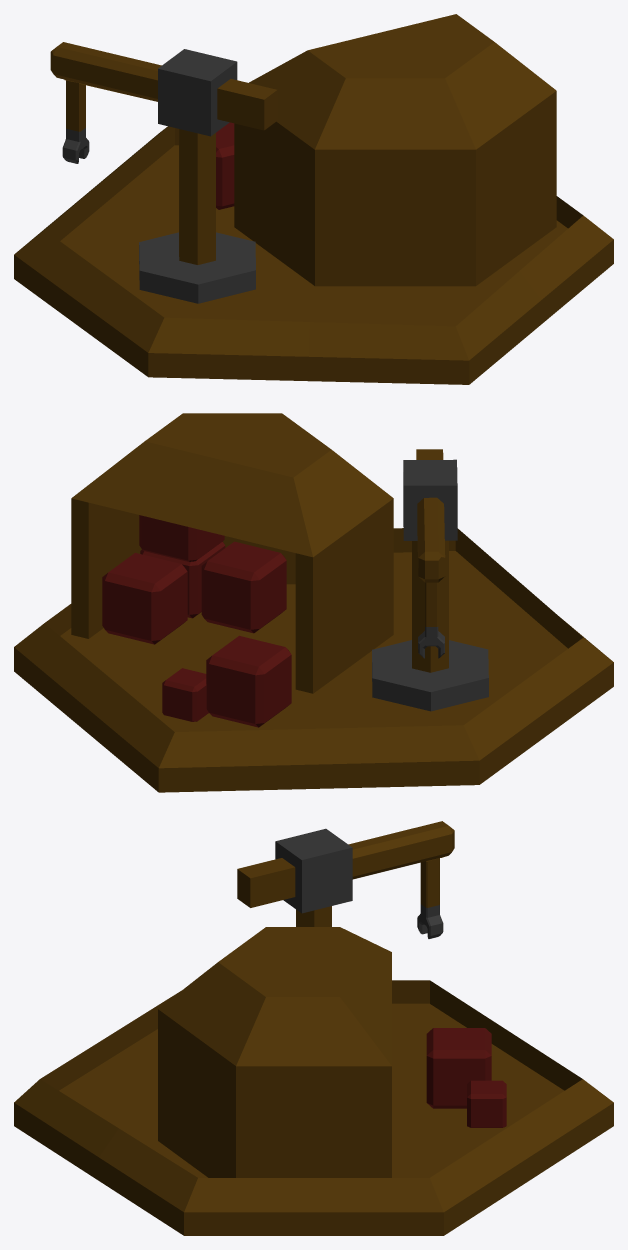
File: harbour.fbx
3 renders of one model, top to bottom at view 1: azimuth 30°, elevation 25°; view 2: azimuth 150°, elevation 25°; view 3: azimuth 270°, elevation 25°, orthographic. The views are drawn at different scales.
Parts seen in each view (by area): view 1: Hangar, Harbour Base, Grue, Boxes; view 2: Harbour Base, Hangar, Boxes, Grue; view 3: Harbour Base, Hangar, Grue, Boxes.
Boxes of the visible parts, x1,y1,x2,y2 form: Hangar: (234, 14, 556, 286); Harbour Base: (14, 126, 613, 384); Grue: (50, 42, 277, 303); Boxes: (216, 122, 234, 209); Harbour Base: (14, 528, 613, 792); Hangar: (71, 413, 393, 693); Boxes: (102, 515, 291, 727); Grue: (372, 449, 488, 711); Harbour Base: (14, 980, 613, 1235); Hangar: (158, 927, 391, 1177); Grue: (237, 821, 454, 938); Boxes: (426, 1028, 506, 1127).
Bounding box in the file's own units: 200 × 96.32 × 231.
